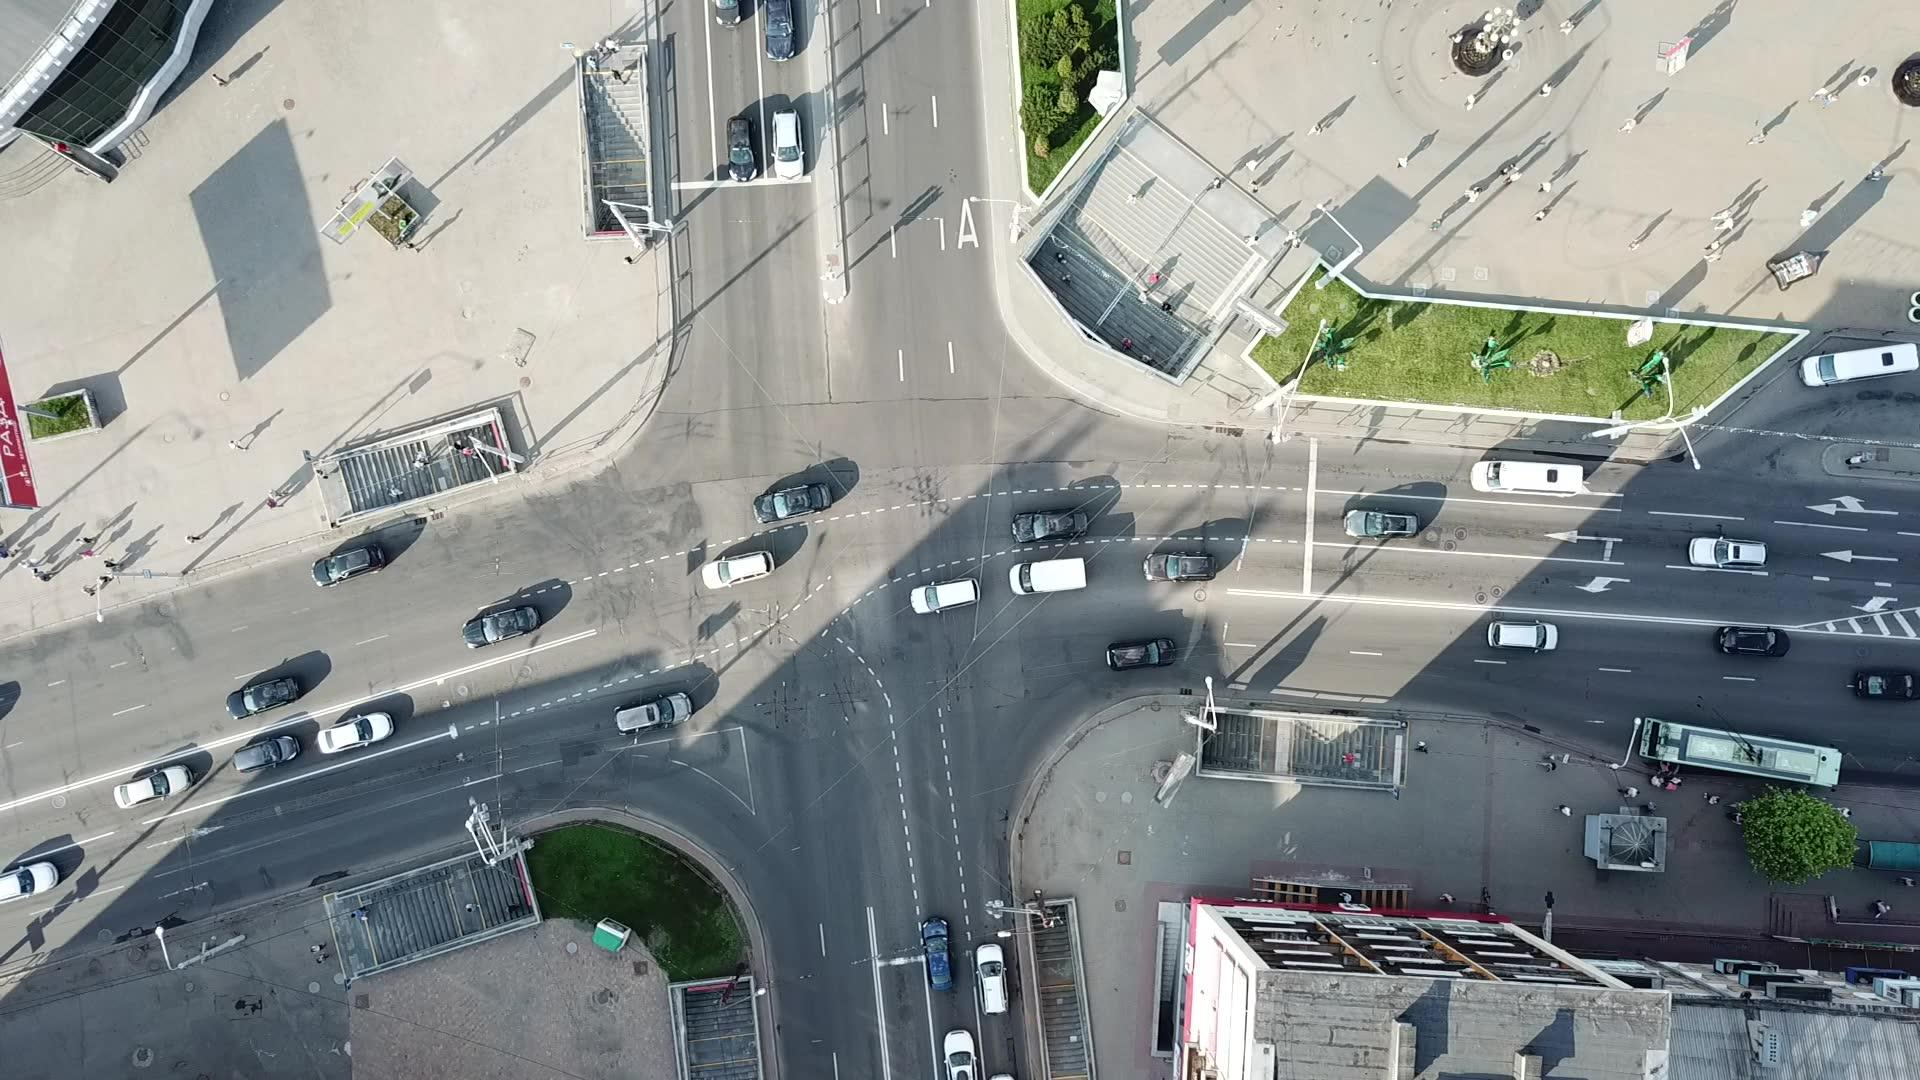car: (614, 688, 692, 734), (111, 765, 192, 808), (754, 480, 835, 522), (222, 676, 298, 720), (462, 607, 539, 650), (317, 712, 394, 754), (312, 543, 387, 586), (1712, 623, 1791, 660), (703, 549, 772, 591), (230, 735, 299, 774), (909, 575, 978, 614), (1688, 536, 1768, 569), (975, 942, 1010, 1015), (1850, 668, 1917, 705), (920, 916, 953, 991), (1143, 551, 1216, 583), (1489, 619, 1559, 652), (771, 107, 802, 181), (1106, 637, 1175, 670), (725, 116, 758, 183), (1010, 511, 1088, 539), (1343, 510, 1418, 539)
